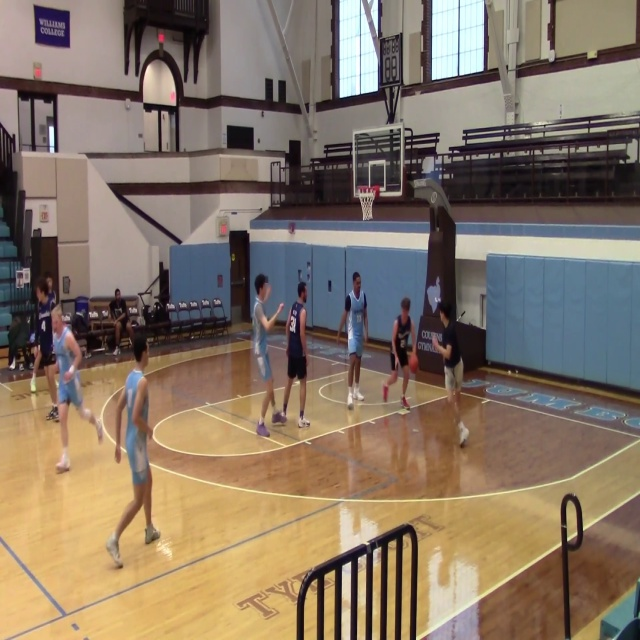Basketball: (408, 354, 419, 373)
